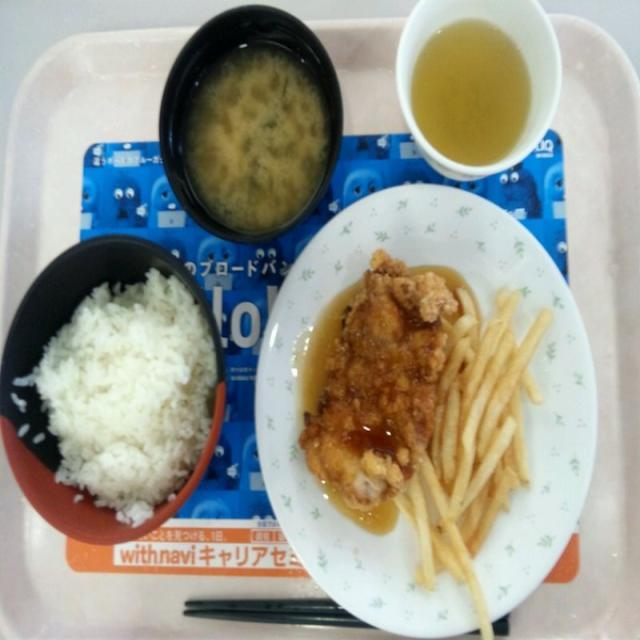Rice: (3, 234, 226, 546)
